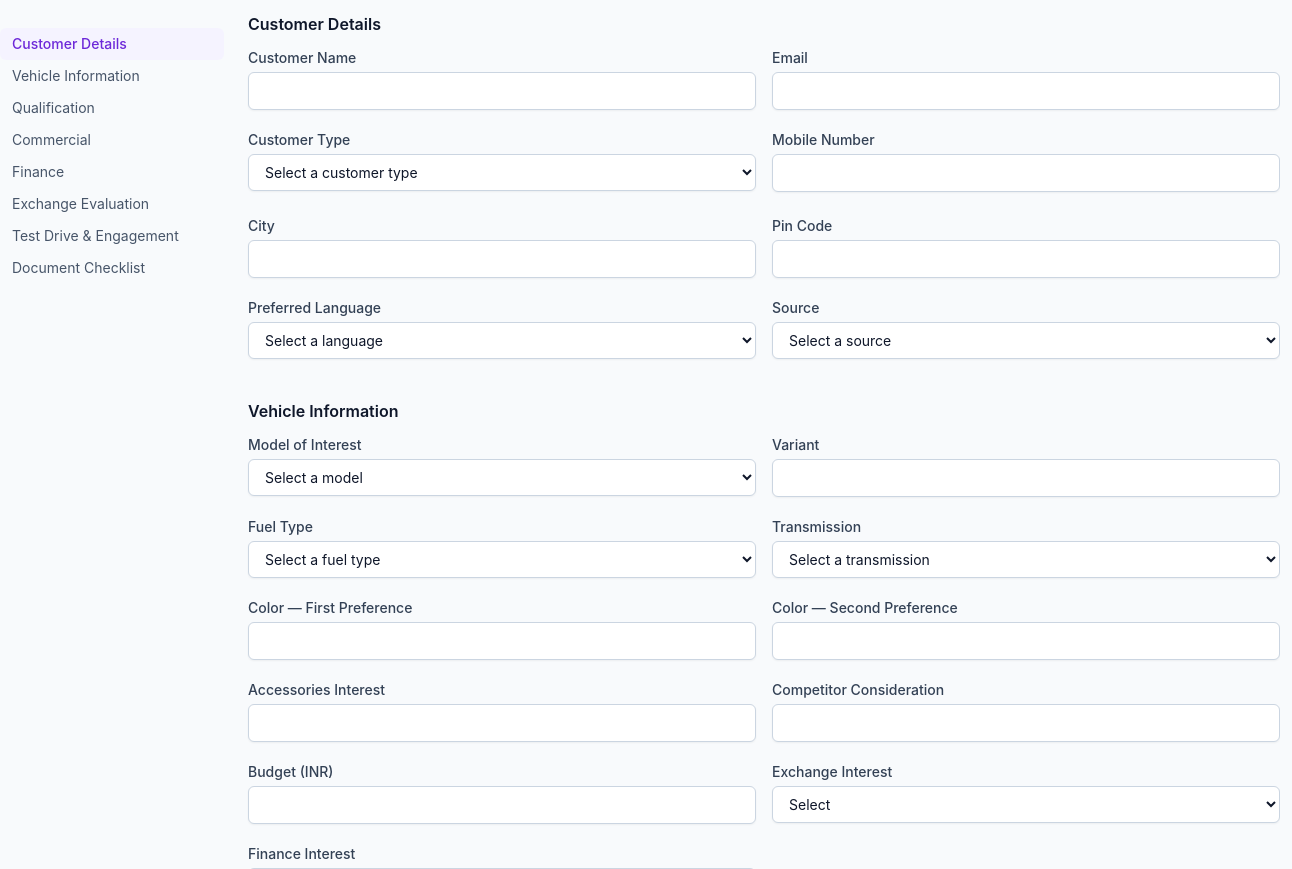
Test case: NewEnquiryForm (issue #134 sectioned rewrite) › duplicate-mobile warning (issue #29) › AC2: shows a warning listing the matching record(s) when a duplicate is found
Type "9876543210" into the field labelled "Mobile Number". click: (1026, 173)
box: [772, 154, 1280, 192]
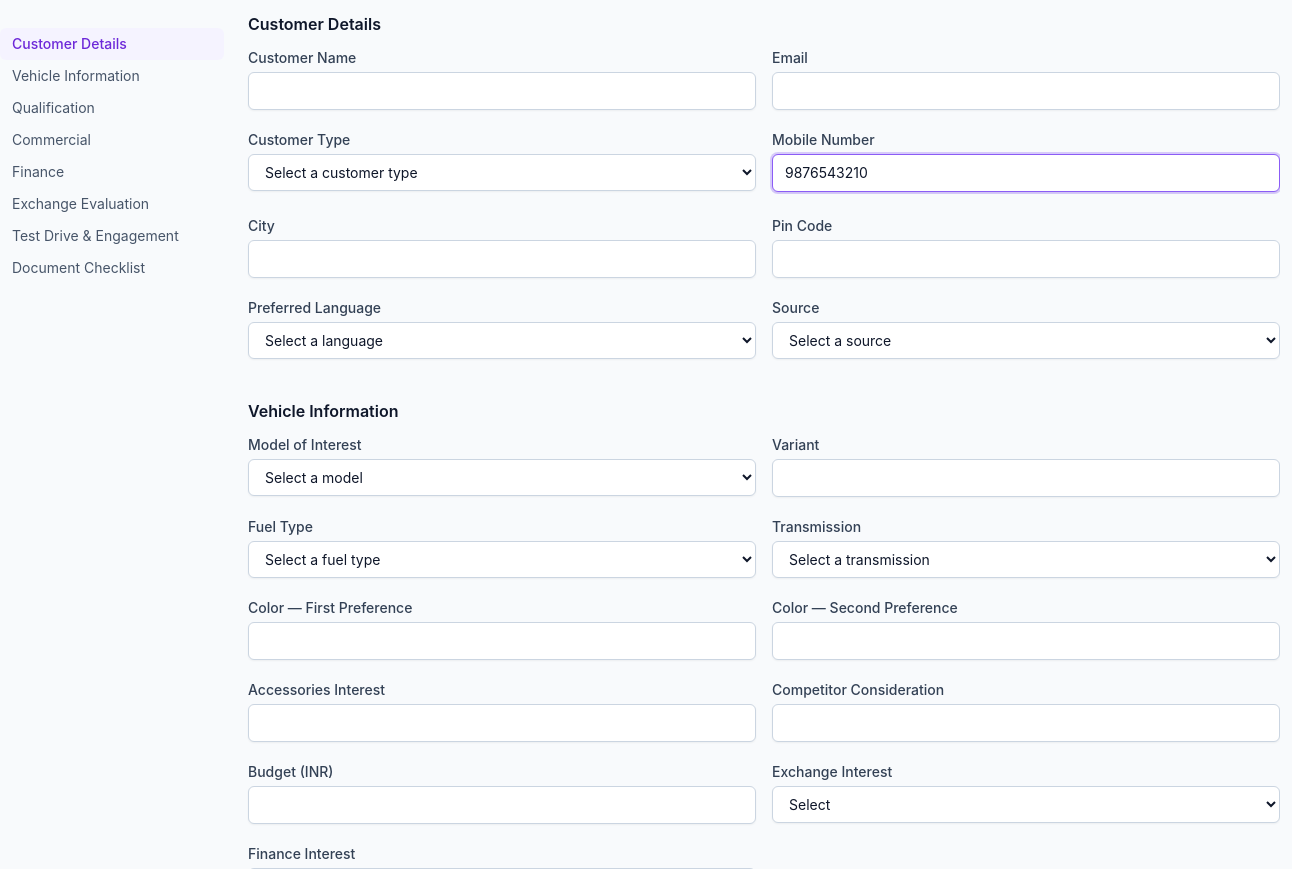
Press Tab
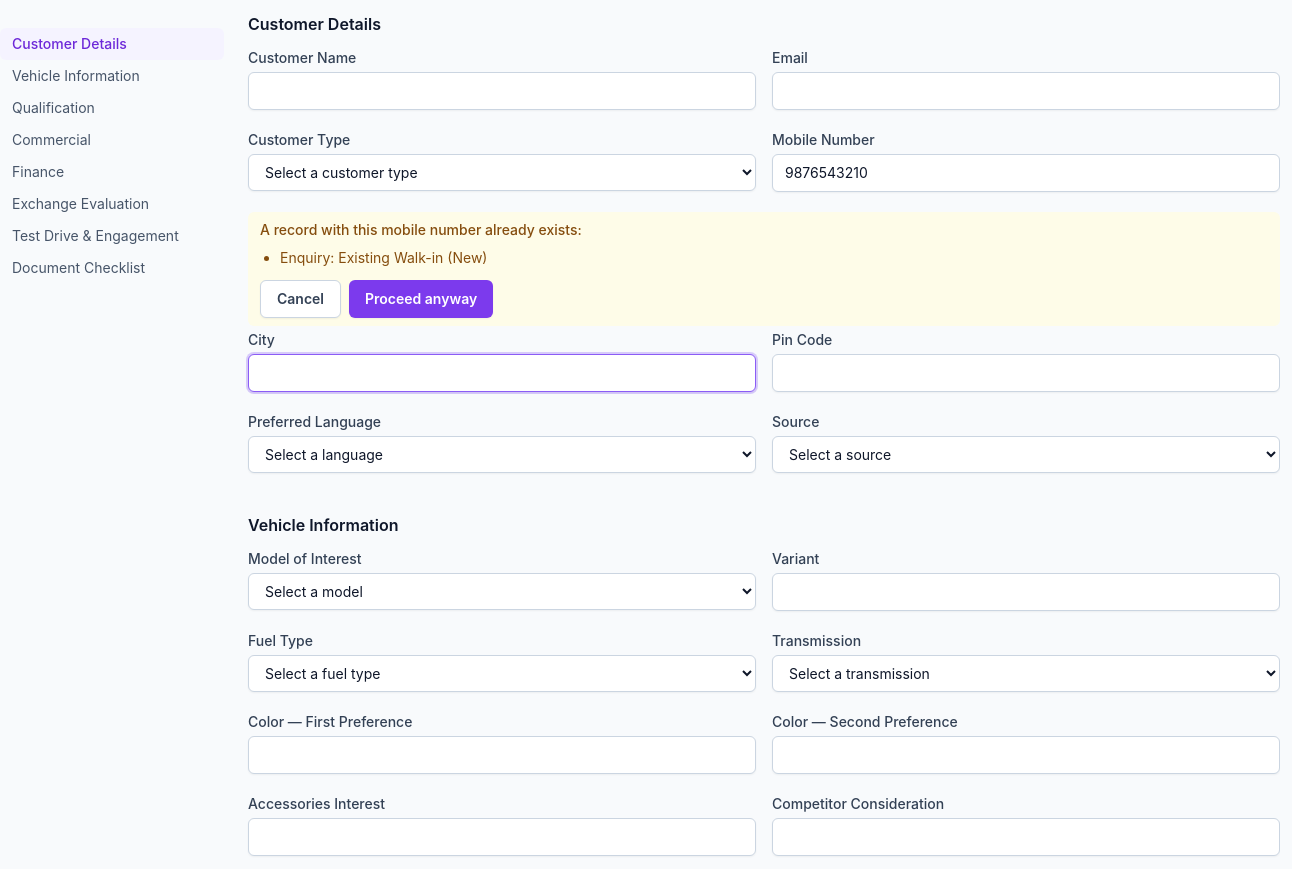
expect the message with test id "duplicate-warning" is shown: met, box [248, 212, 1280, 326]
expect the list item "Enquiry: Existing Walk-in (New)" is shown: met, box [280, 249, 488, 266]
